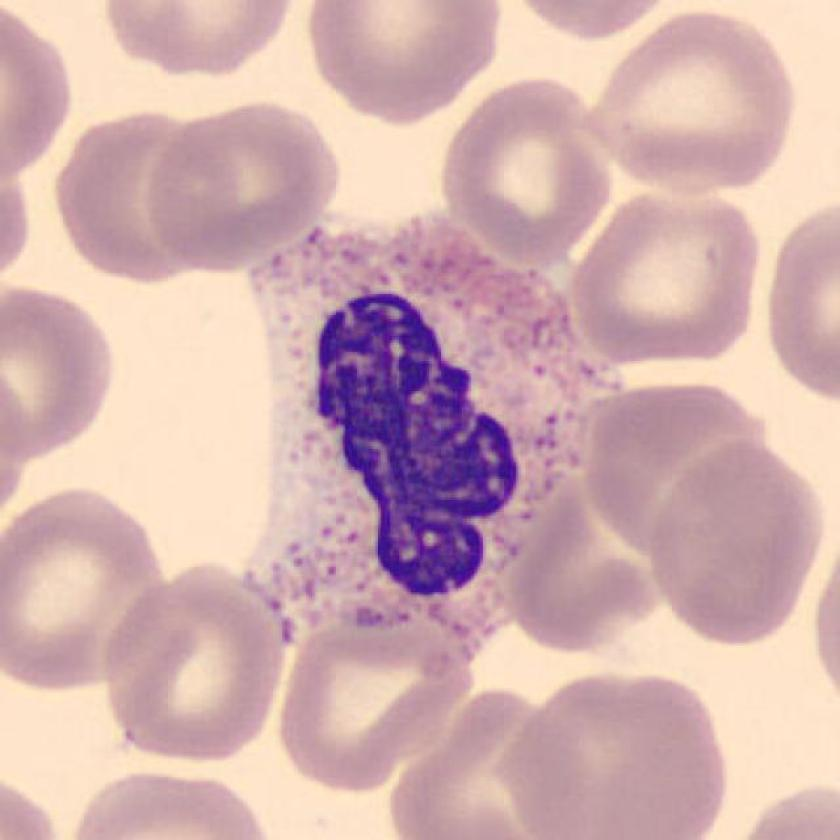neutrophil: (240, 215, 611, 666)
